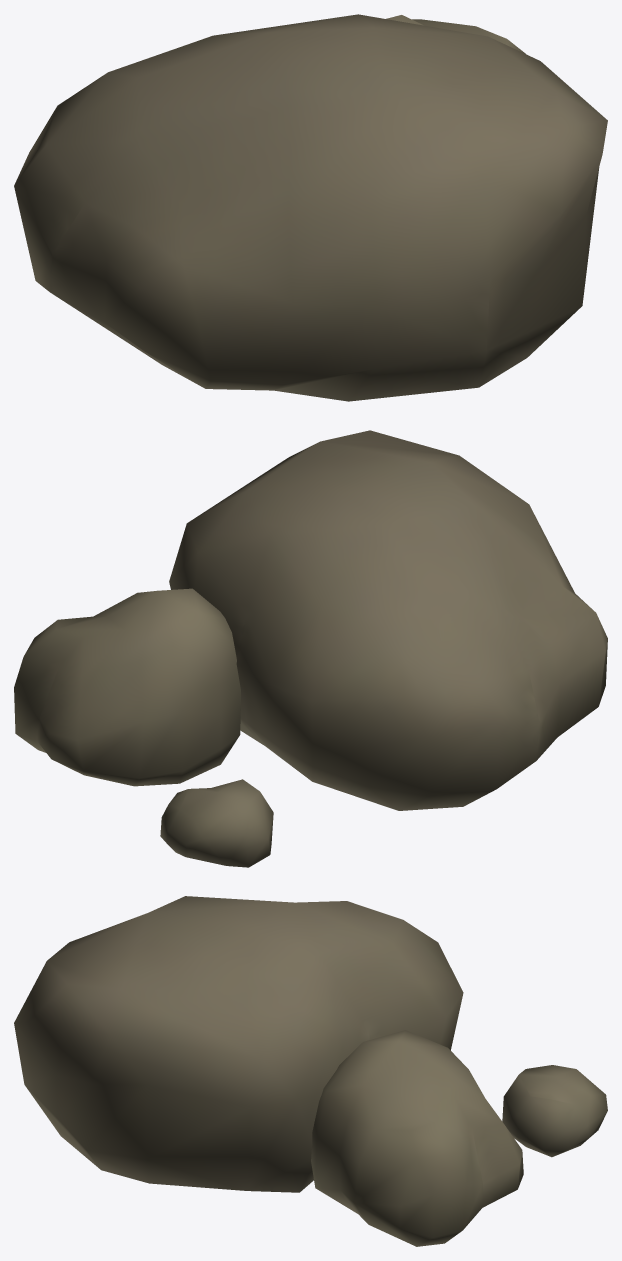
Rendered from Stone_Small_03.FBX.
The picture shows the model from 3 angles, top to bottom: view 1: azimuth 30°, elevation 25°; view 2: azimuth 150°, elevation 25°; view 3: azimuth 270°, elevation 25°; orthographic projection. The views are drawn at different scales.
Visible parts, largest first — view 1: Stone_Small_03; view 2: Stone_Small_03; view 3: Stone_Small_03.
Boxes of the visible parts, x1,y1,x2,y2 form: Stone_Small_03: (14, 14, 607, 401); Stone_Small_03: (14, 430, 607, 867); Stone_Small_03: (14, 896, 607, 1246).
Size of the model in its own units: 200 by 99.81 by 235.
